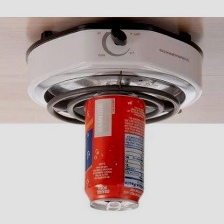can: (79, 89, 149, 215)
